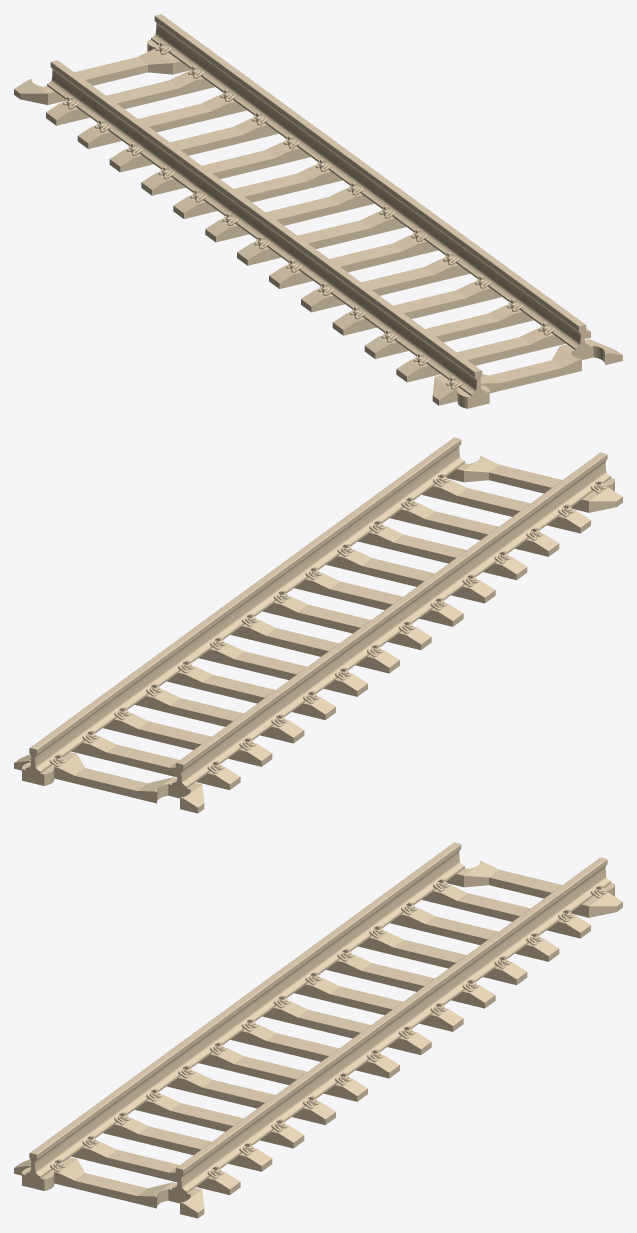
File: riel.fbx
3 renders of one model, top to bottom at view 1: azimuth 30°, elevation 25°; view 2: azimuth 150°, elevation 25°; view 3: azimuth 330°, elevation 25°, orthographic.
Parts seen in each view (by area): view 1: Straight_Track_200mm; view 2: Straight_Track_200mm; view 3: Straight_Track_200mm.
Part boxes in pixels (x1,y1,x2,y2): Straight_Track_200mm: (14,14,622,408); Straight_Track_200mm: (14,437,622,813); Straight_Track_200mm: (14,842,622,1218).
Size of the model in its own units: 4020 by 724 by 16855.
